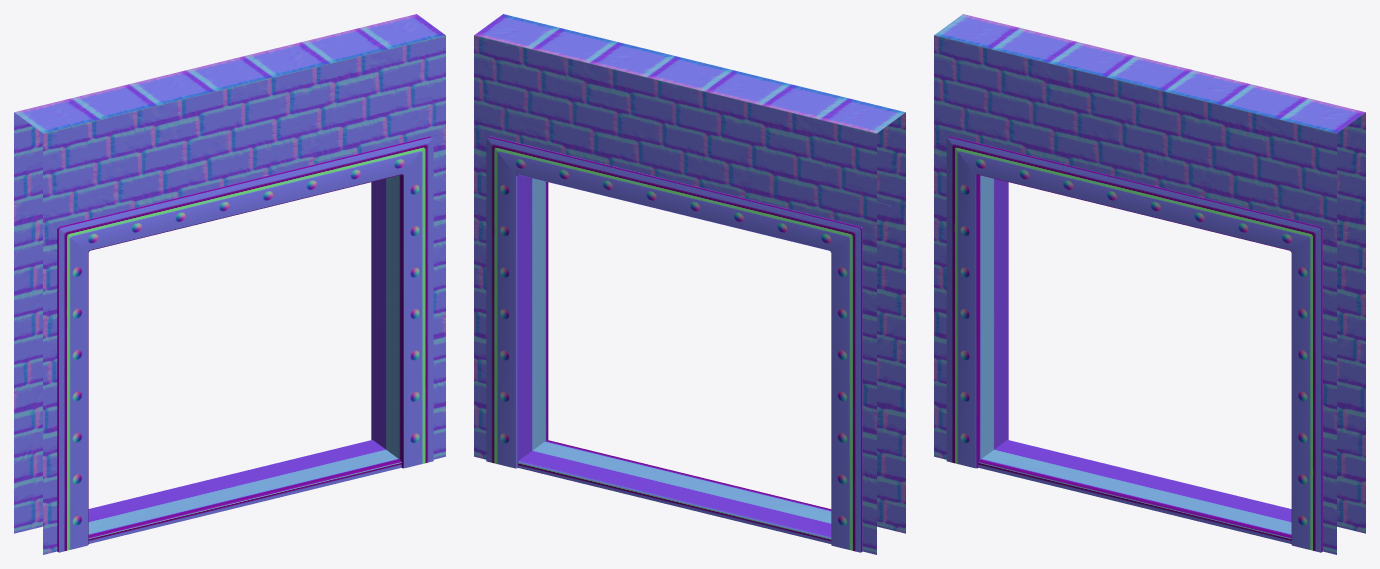
File: sm_wall_straight_15.fbx
3 renders of one model, left to right at view 1: azimuth 30°, elevation 25°; view 2: azimuth 150°, elevation 25°; view 3: azimuth 330°, elevation 25°, orthographic.
Visible parts, largest first — view 1: sm_wall_straight_15; view 2: sm_wall_straight_15; view 3: sm_wall_straight_15.
Part boxes in pixels (left/top/right/bottom): sm_wall_straight_15: left=14, top=14, right=445, bottom=554; sm_wall_straight_15: left=474, top=14, right=905, bottom=554; sm_wall_straight_15: left=934, top=14, right=1365, bottom=554.
Size of the model in its own units: 400 by 400 by 55.8.
Materials: 1 (1 with a texture image).
